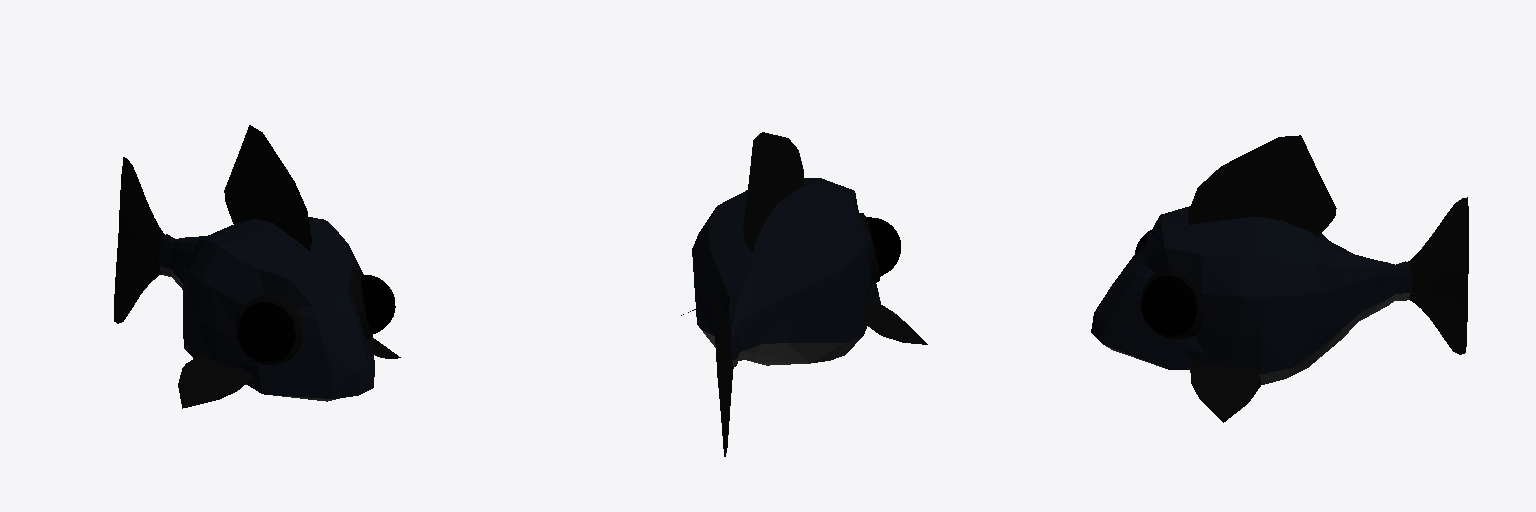
Rendered from Shark.obj.
3 views of the same model, side by side, from view 1: azimuth 30°, elevation 25°; view 2: azimuth 150°, elevation 25°; view 3: azimuth 270°, elevation 25° (orthographic).
Visible parts, largest first — view 1: Shark_Icosphere.010; view 2: Shark_Icosphere.010; view 3: Shark_Icosphere.010.
Boxes of the visible parts, x1=… form: Shark_Icosphere.010: x1=114, y1=125, x2=400, y2=408; Shark_Icosphere.010: x1=681, y1=132, x2=927, y2=456; Shark_Icosphere.010: x1=1091, y1=135, x2=1468, y2=422.
Size of the model in its own units: 3.77 by 3.77 by 5.27.